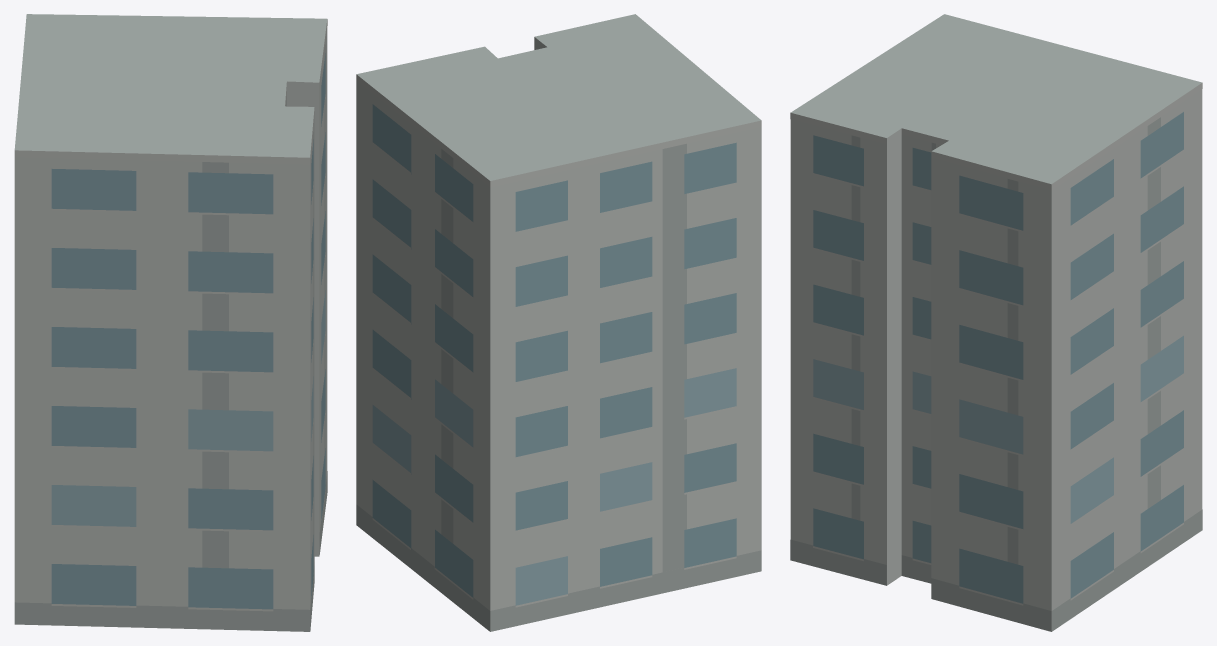
File: survey-upis-32905930.glb
3 renders of one model, left to right at view 1: azimuth 30°, elevation 25°; view 2: azimuth 150°, elevation 25°; view 3: azimuth 270°, elevation 25°, orthographic. The views are drawn at different scales.
Visible parts, largest first — view 1: survey-upis-32905930.tmp; view 2: survey-upis-32905930.tmp; view 3: survey-upis-32905930.tmp.
Boxes of the visible parts, x1,y1,x2,y2 form: survey-upis-32905930.tmp: [14, 14, 327, 631]; survey-upis-32905930.tmp: [356, 14, 761, 631]; survey-upis-32905930.tmp: [790, 14, 1202, 631].
Size of the model in its own units: 13.71 by 16.8 by 14.02.
